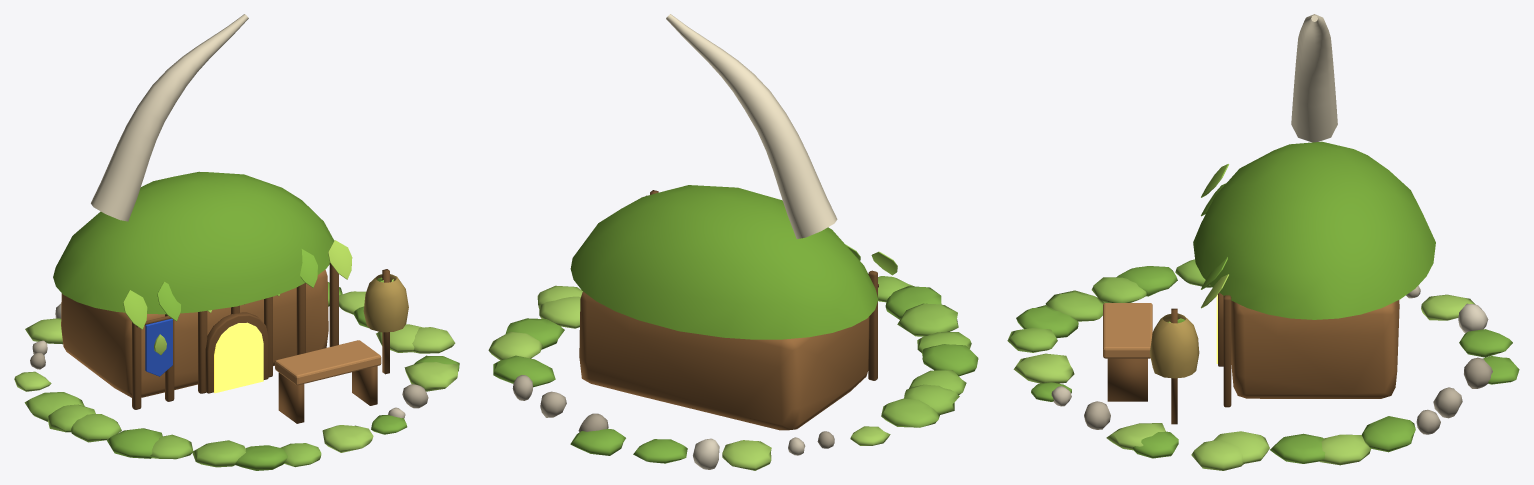
File: b_barkweaver.glb
3 views of the same model, side by side, from view 1: azimuth 30°, elevation 25°; view 2: azimuth 150°, elevation 25°; view 3: azimuth 270°, elevation 25° (orthographic). The views are drawn at different scales.
Visible parts, largest first — view 1: root_matte#76aa36, hut, root_matte#74502c, ridgeTusk, root_matte#a8d060, root_matte#94c252, root_matte#7fb243, doorLight, bench, barkArmour, bannerCloth, root_matte#86bc40 (+3 smaller); view 2: root_matte#76aa36, hut, ridgeTusk, root_matte#7fb243, root_matte#94c252, root_matte#a8d060, root_matte#b8ad98, root_matte#74502c, pebble9, root_matte#a99e8a; view 3: root_matte#76aa36, hut, root_matte#7fb243, root_matte#a8d060, ridgeTusk, root_matte#94c252, root_matte#74502c, bench, barkArmour, root_matte#b8ad98, root_matte#a99e8a, pebble9.
Part boxes in pixels (x1,y1,x2,y2): root_matte#76aa36: [53, 171, 333, 314]; hut: [61, 269, 328, 397]; root_matte#74502c: [132, 263, 389, 423]; ridgeTusk: [91, 14, 248, 221]; root_matte#a8d060: [14, 291, 457, 452]; root_matte#94c252: [24, 392, 321, 467]; root_matte#7fb243: [107, 282, 459, 470]; doorLight: [214, 322, 263, 393]; bench: [275, 340, 381, 385]; barkArmour: [363, 274, 408, 332]; bannerCloth: [145, 318, 172, 376]; root_matte#86bc40: [157, 249, 382, 321]; root_matte#76aa36: [570, 185, 878, 339]; hut: [579, 291, 869, 430]; ridgeTusk: [666, 14, 837, 238]; root_matte#7fb243: [493, 286, 978, 463]; root_matte#94c252: [878, 276, 971, 427]; root_matte#a8d060: [488, 285, 890, 470]; root_matte#b8ad98: [512, 375, 566, 417]; root_matte#74502c: [650, 190, 878, 380]; pebble9: [693, 438, 719, 469]; root_matte#a99e8a: [578, 413, 834, 448]; root_matte#76aa36: [1193, 141, 1435, 319]; hut: [1231, 300, 1399, 398]; root_matte#7fb243: [1016, 266, 1519, 463]; root_matte#a8d060: [1013, 294, 1475, 470]; ridgeTusk: [1291, 14, 1337, 142]; root_matte#94c252: [1007, 259, 1211, 352]; root_matte#74502c: [1107, 292, 1231, 424]; bench: [1103, 303, 1152, 358]; barkArmour: [1149, 313, 1199, 378]; root_matte#b8ad98: [1084, 387, 1462, 434]; root_matte#a99e8a: [1464, 357, 1492, 388]; pebble9: [1458, 303, 1488, 333].
Bounding box in the file's own units: 3.23 × 2.67 × 3.29.
